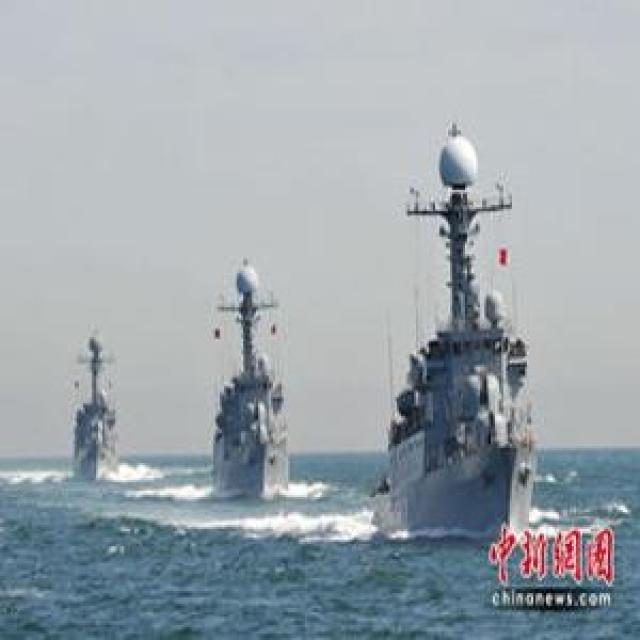navalvessels: (372, 122, 538, 542), (203, 250, 296, 502), (68, 324, 127, 477)
